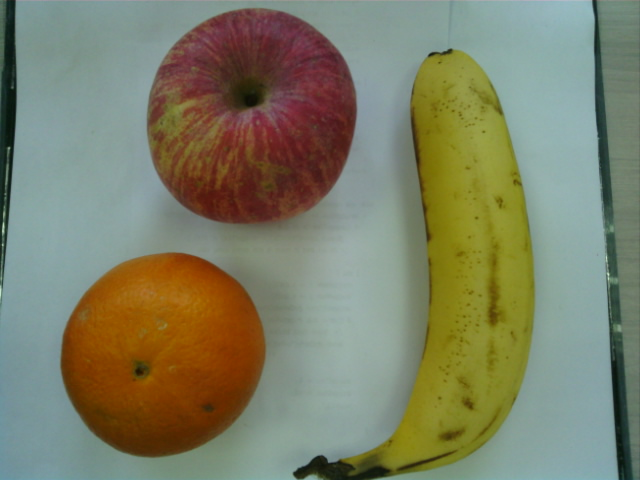normal_apple: (145, 7, 358, 227)
normal_banana: (366, 48, 539, 480)
normal_orange: (59, 252, 266, 458)
